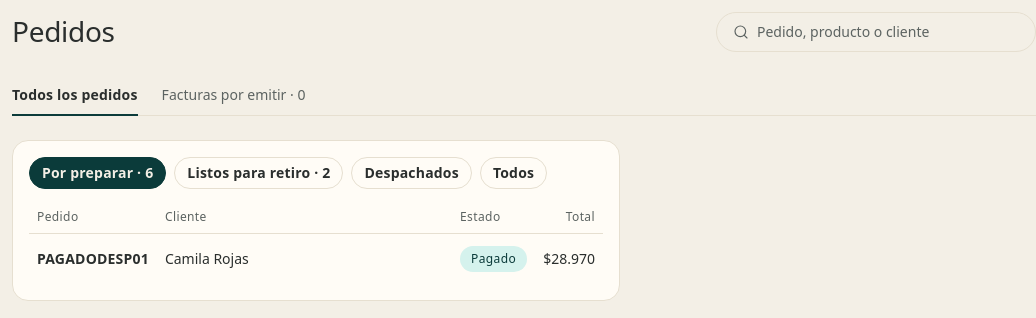
Test case: Panel de pedidos · estados de la pantalla (SCRUM-130) › E8-H2 FE · CA1 lista y detalle: una búsqueda sin resultados lo dice
Check: the table named "Pedidos" is shown, box 29,201 -> 603,284
Type "Nadie" into the search field named "Buscar pedidos por pedido, producto o cliente" at (888, 32), box 757,22 -> 1019,42
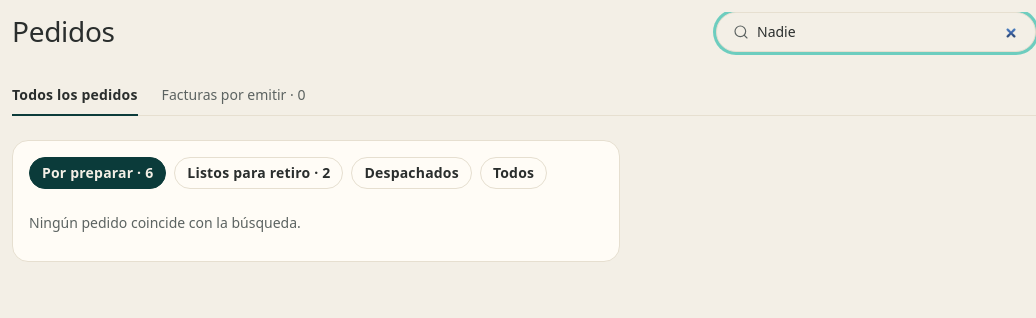
Check: the text "Ningún pedido coincide con la búsqueda." is shown, box 29,213 -> 301,232
